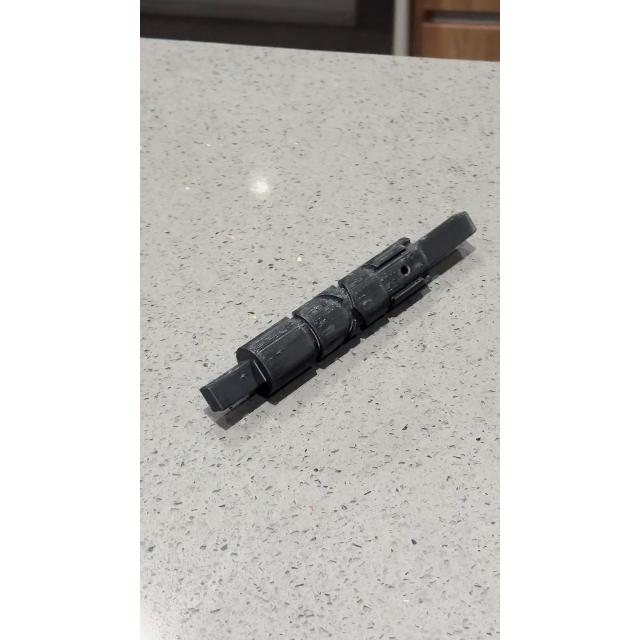Pieza_1: (194, 194, 482, 430)
